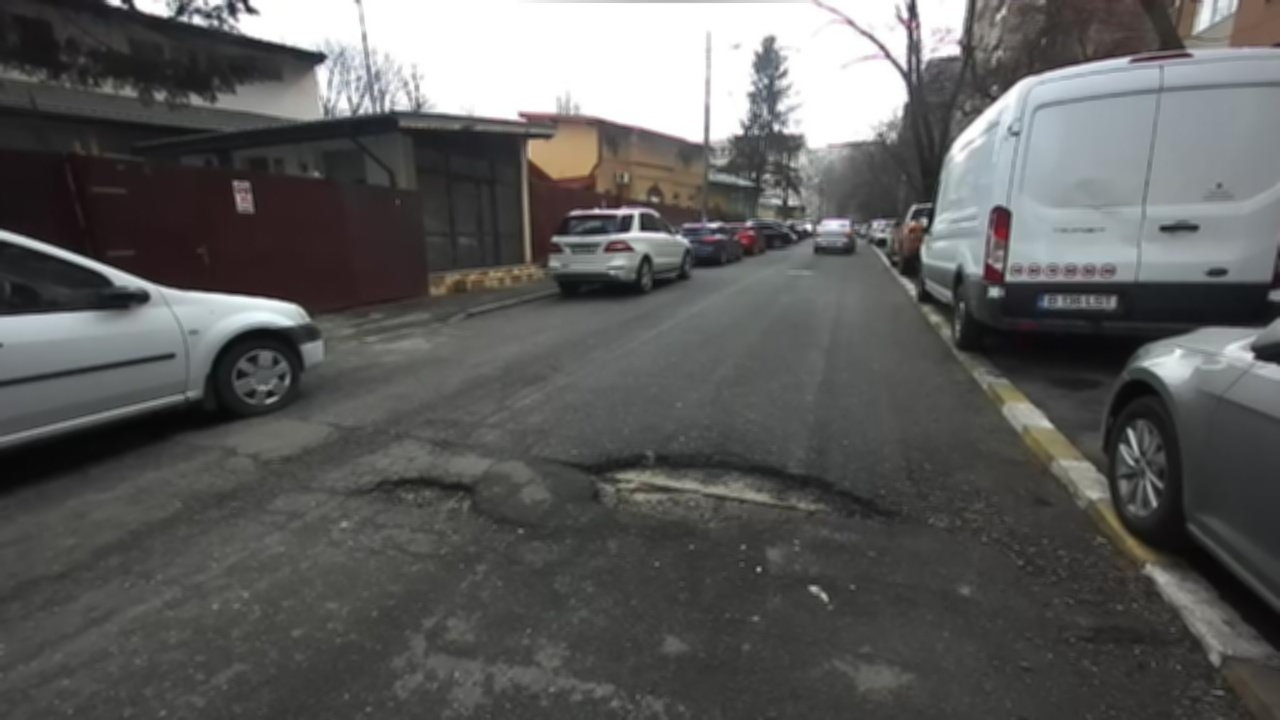pothole: (560, 446, 923, 540), (344, 469, 528, 528)
